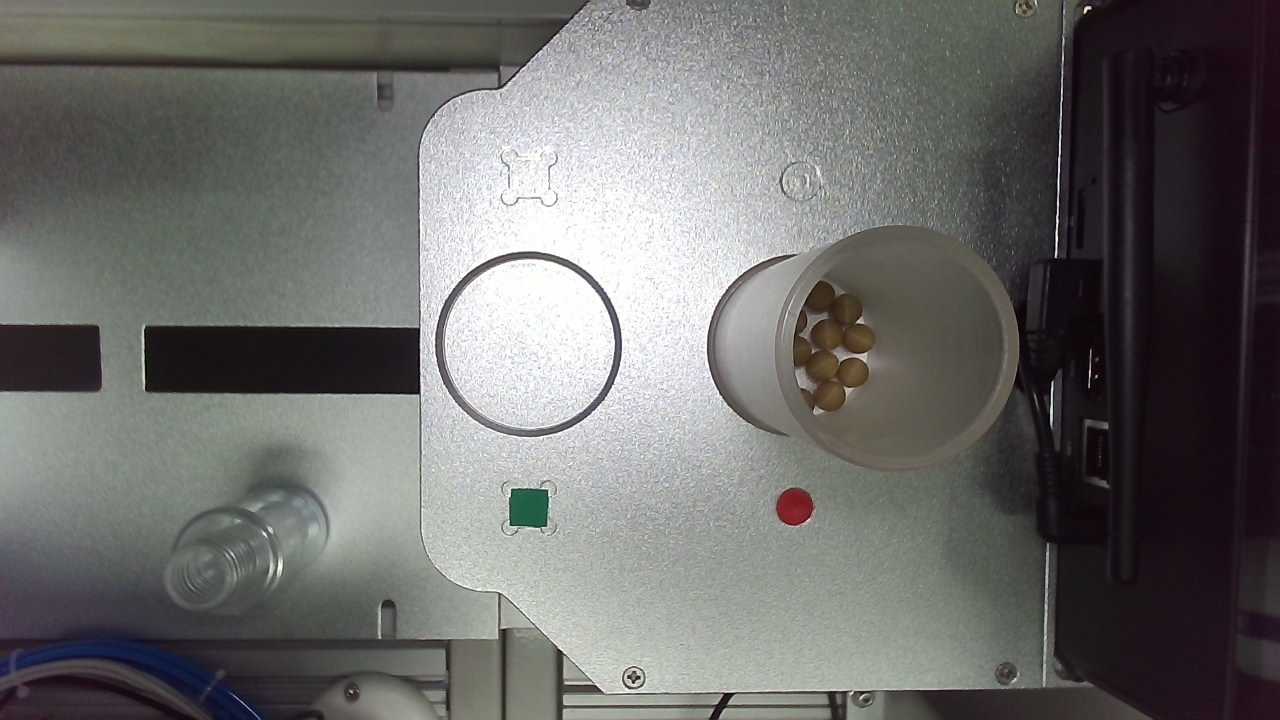XLabel: (617, 365, 651, 398)
YLabel: (395, 363, 430, 398)
none: (329, 437, 490, 599)
transparenexcept: (546, 438, 754, 680)
